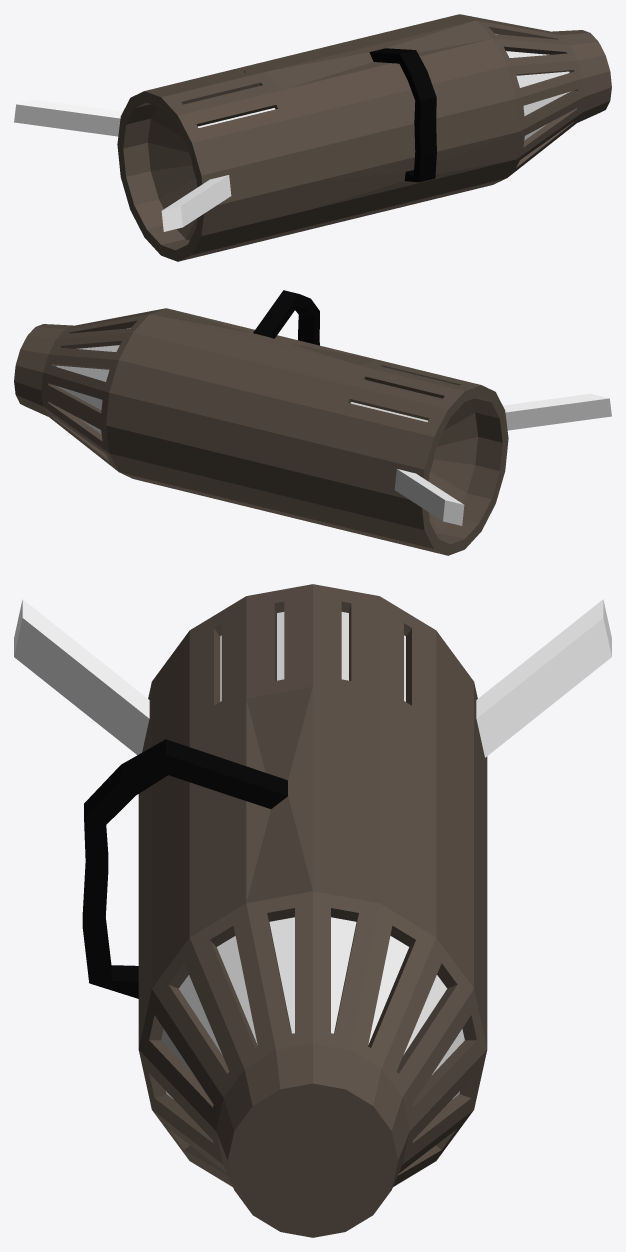
The model's file is gmod weapon clones.fbx.
3 renders of one model, top to bottom at view 1: azimuth 30°, elevation 25°; view 2: azimuth 150°, elevation 25°; view 3: azimuth 270°, elevation 25°, orthographic. The views are drawn at different scales.
Visible parts, largest first — view 1: PhysGun; view 2: PhysGun; view 3: PhysGun.
Boxes of the visible parts, x1,y1,x2,y2 form: PhysGun: (14,14,611,261); PhysGun: (14,290,611,555); PhysGun: (14,584,611,1237).
Bounding box in the file's own units: 1433 × 489 × 741.
